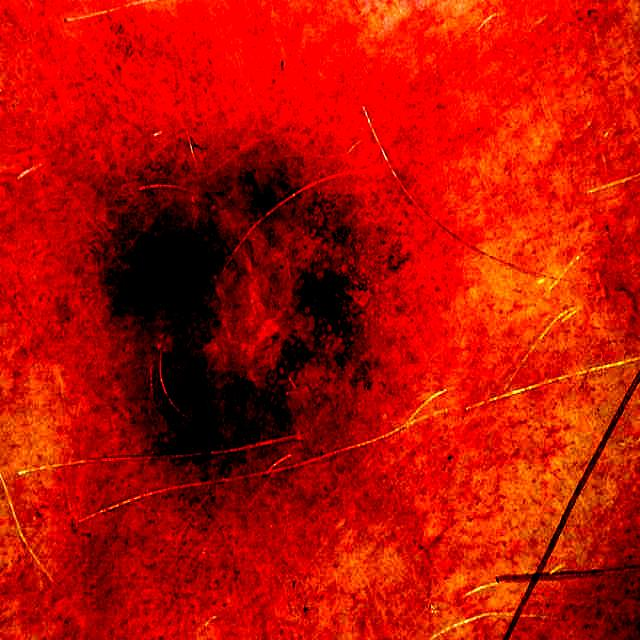DF: (94, 139, 437, 452)
